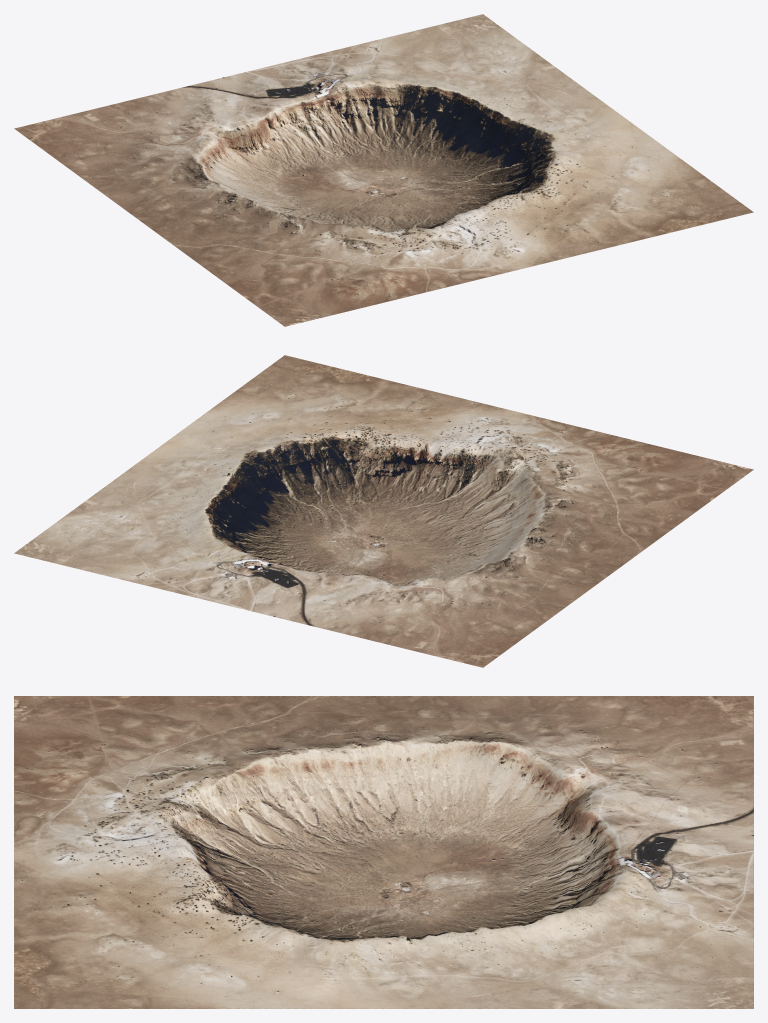
Rendered from crater.glb.
3 renders of one model, top to bottom at view 1: azimuth 30°, elevation 25°; view 2: azimuth 150°, elevation 25°; view 3: azimuth 270°, elevation 25°, orthographic. The views are drawn at different scales.
Parts seen in each view (by area): view 1: Cratère Barringer; view 2: Cratère Barringer; view 3: Cratère Barringer.
Part boxes in pixels (x1,y1,x2,y2): Cratère Barringer: [14, 14, 753, 326]; Cratère Barringer: [14, 355, 753, 667]; Cratère Barringer: [14, 696, 753, 1008].
Bounding box in the file's own units: 158 × 12.9 × 158.
1 material, 1 textured.
